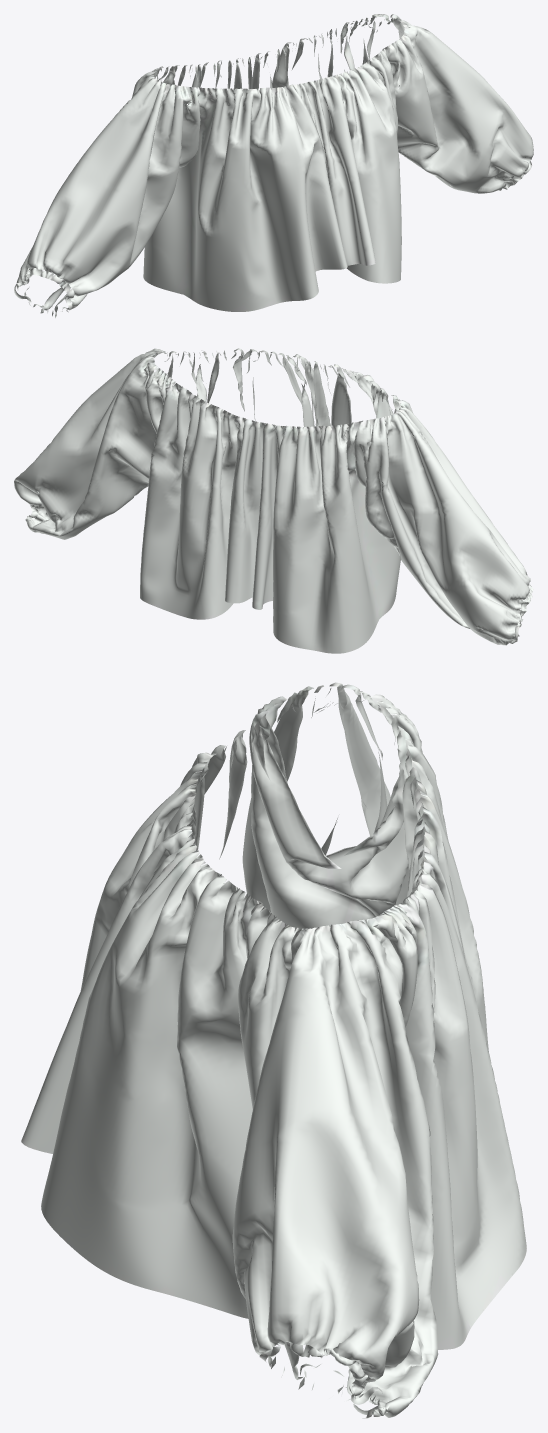
File: off-shoulder-blouse.glb
3 views of the same model, one above another, from view 1: azimuth 30°, elevation 25°; view 2: azimuth 150°, elevation 25°; view 3: azimuth 270°, elevation 25° (orthographic). The views are drawn at different scales.
Visible parts, largest first — view 1: center-offset; view 2: center-offset; view 3: center-offset.
Part boxes in pixels (x1,y1,x2,y2): center-offset: (14, 14, 533, 318); center-offset: (14, 348, 533, 653); center-offset: (21, 682, 526, 1418).
Bounding box in the file's own units: 97.14 × 41.31 × 42.2.
1 material, 1 textured.
